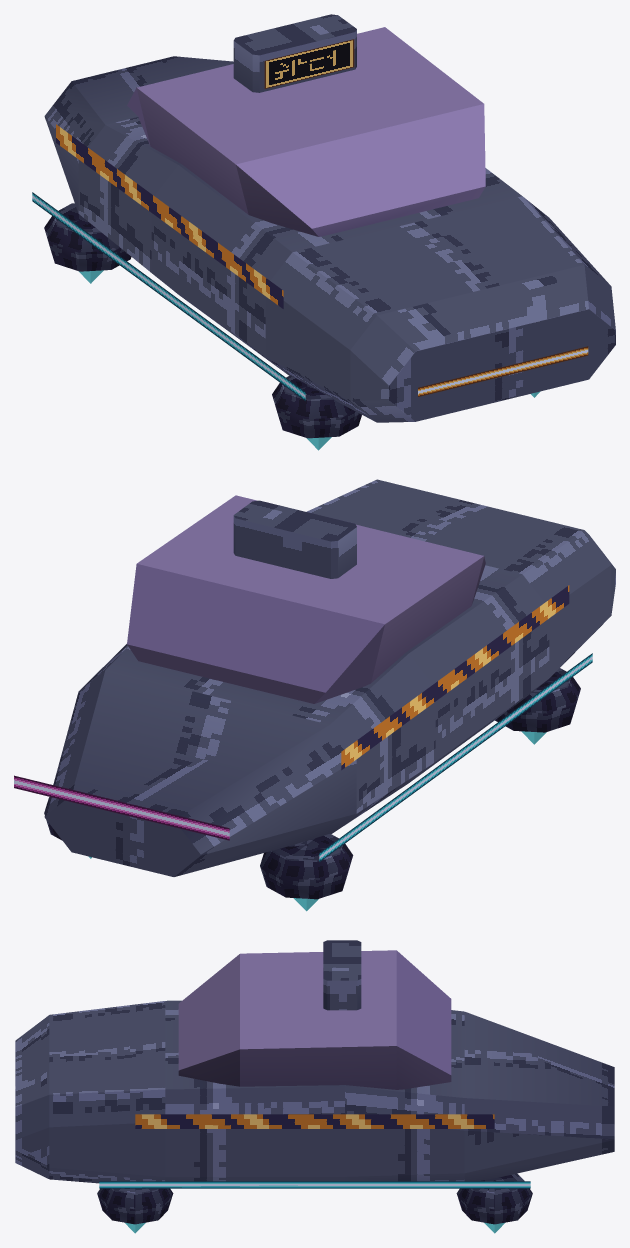
The model's file is cytech.hovercar__taxi.glb.
3 views of the same model, one above another, from view 1: azimuth 30°, elevation 25°; view 2: azimuth 150°, elevation 25°; view 3: azimuth 270°, elevation 25° (orthographic). The views are drawn at different scales.
Visible parts, largest first — view 1: kit_hull, kit_canopy, kit_card_lights, kit_pods; view 2: kit_hull, kit_canopy, kit_card_lights, kit_pods; view 3: kit_hull, kit_canopy, kit_card_lights, kit_pods.
Part boxes in pixels (x1,y1,x2,y2): kit_hull: (44, 14, 615, 422); kit_canopy: (127, 27, 485, 236); kit_card_lights: (32, 39, 588, 400); kit_pods: (44, 203, 540, 450); kit_hull: (44, 479, 615, 876); kit_canopy: (127, 495, 485, 703); kit_card_lights: (14, 585, 592, 861); kit_pods: (44, 668, 580, 911); kit_hull: (15, 940, 614, 1183); kit_canopy: (178, 950, 451, 1089); kit_card_lights: (99, 1114, 530, 1188); kit_pods: (97, 1173, 532, 1233).
Bounding box in the file's own units: 2 × 1.88 × 4.42.
7 materials, 6 textured.
